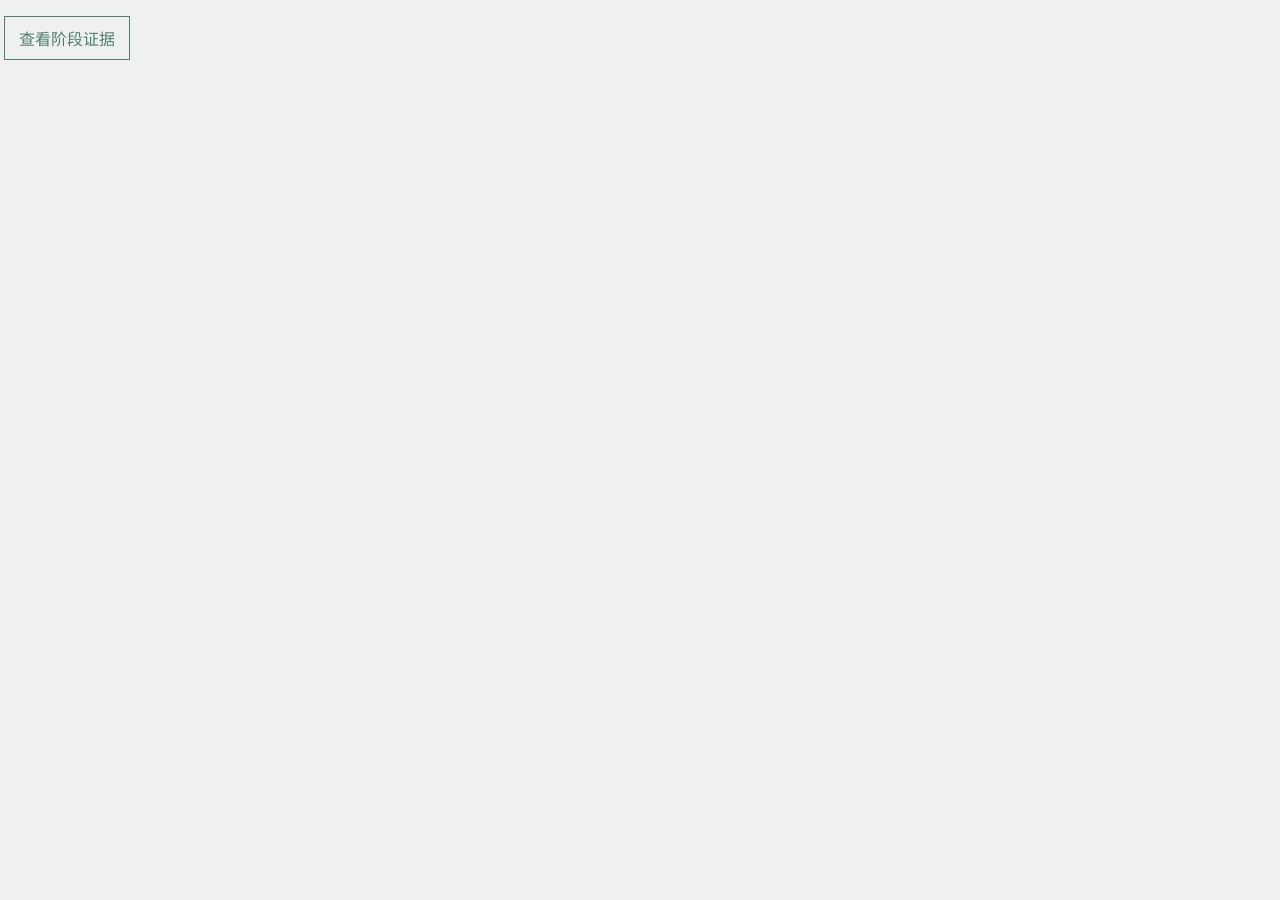
it: keeps selected evidence unmounted until the disclosure opens
Expected: the text "历法证据内容" is not shown
Click the button "查看阶段证据".
click(67, 38)  # box [4,16,130,60]
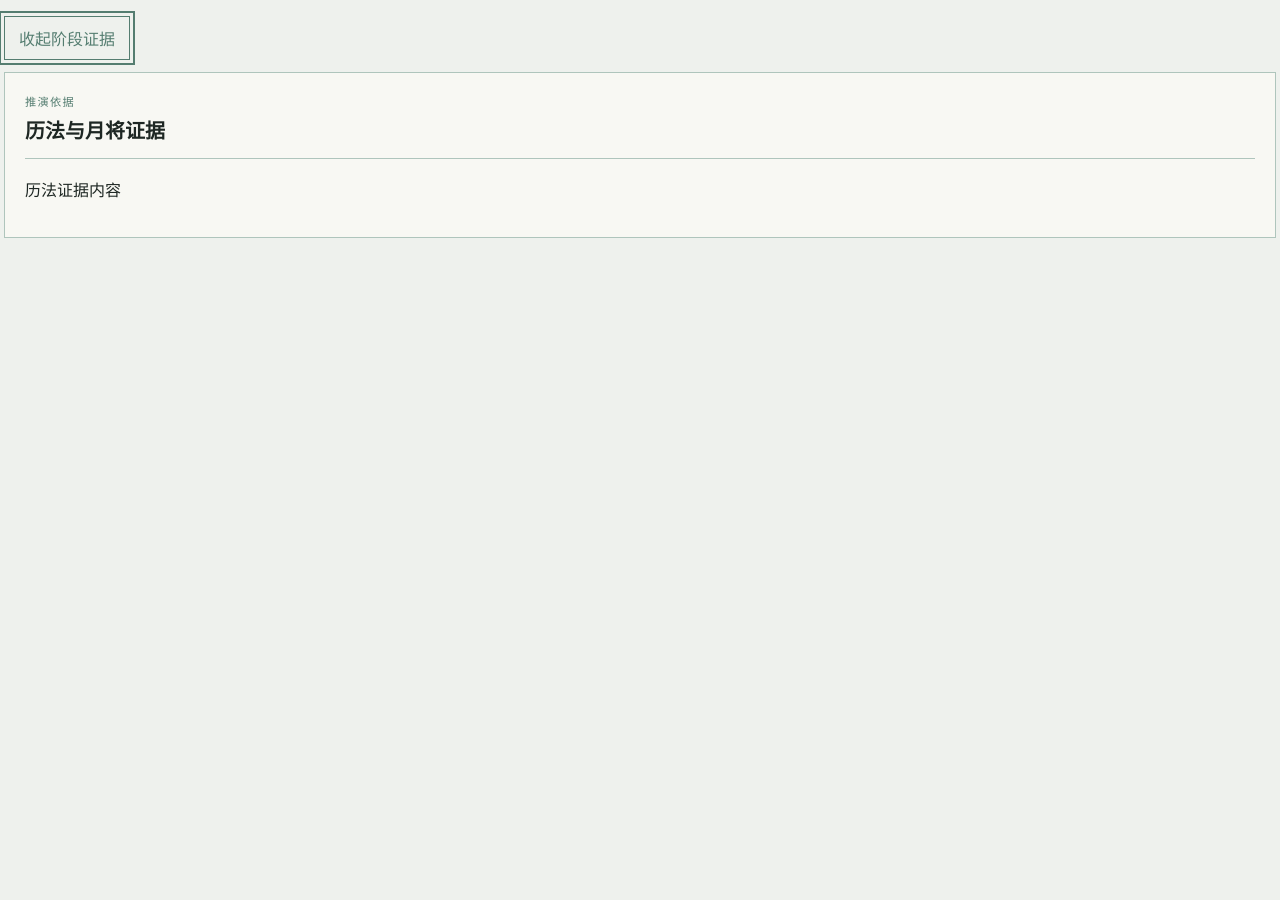
Expected: the dialog "历法与月将证据" is shown, [4,72,1276,238]
Expected: the text "历法证据内容" is shown, [25,182,121,199]
